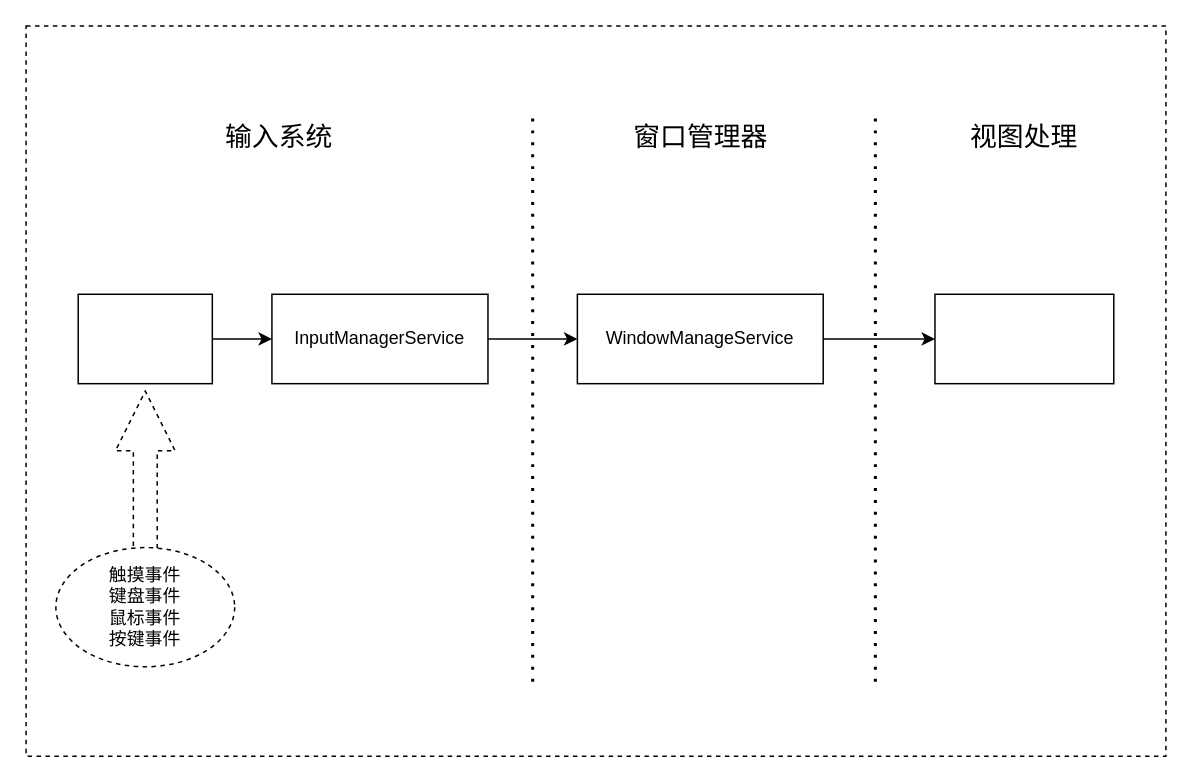
This 1192x782 diagram has some shape labels left out. The box of each missing label's shape, as (x1, y1, x2, y2) in pixels:
视图体系: (933, 293, 1114, 384)
输入子系统: (77, 293, 212, 384)
